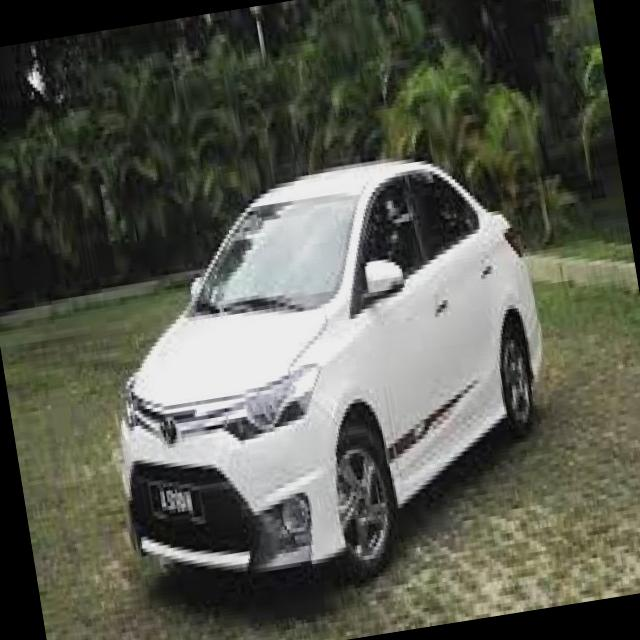ToyotaVios: (77, 137, 578, 618)
